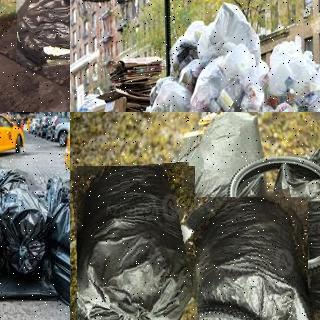Garbage: (74, 164, 198, 320), (186, 192, 315, 320), (174, 112, 272, 215), (275, 143, 320, 305), (185, 41, 266, 112), (262, 28, 320, 112), (195, 0, 263, 69), (1, 188, 54, 274), (16, 0, 70, 65), (44, 188, 70, 313), (0, 167, 51, 202), (145, 75, 192, 112)
